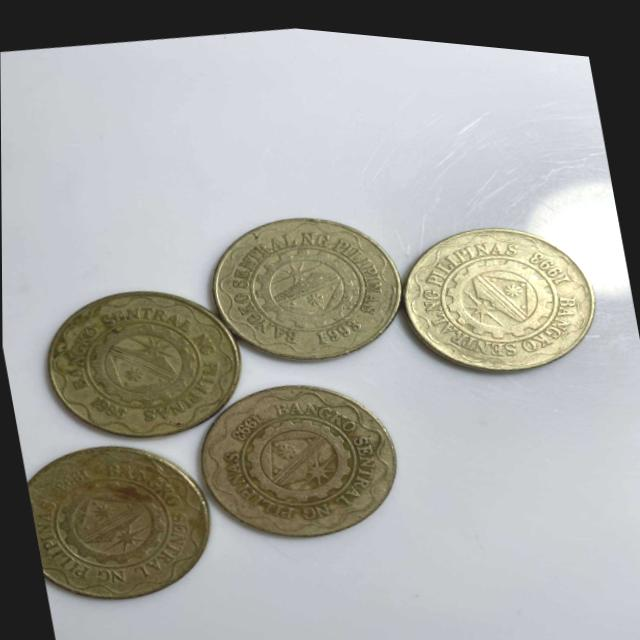5_Old_Back: (26, 262, 248, 450), (205, 189, 416, 377), (198, 365, 400, 547), (396, 198, 594, 381), (25, 426, 214, 609)
